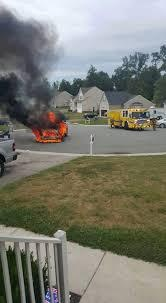fire: (28, 110, 69, 143)
